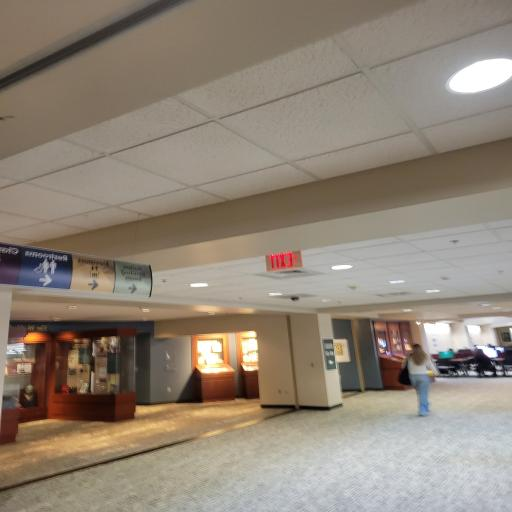exit sign: (258, 245, 310, 275)
